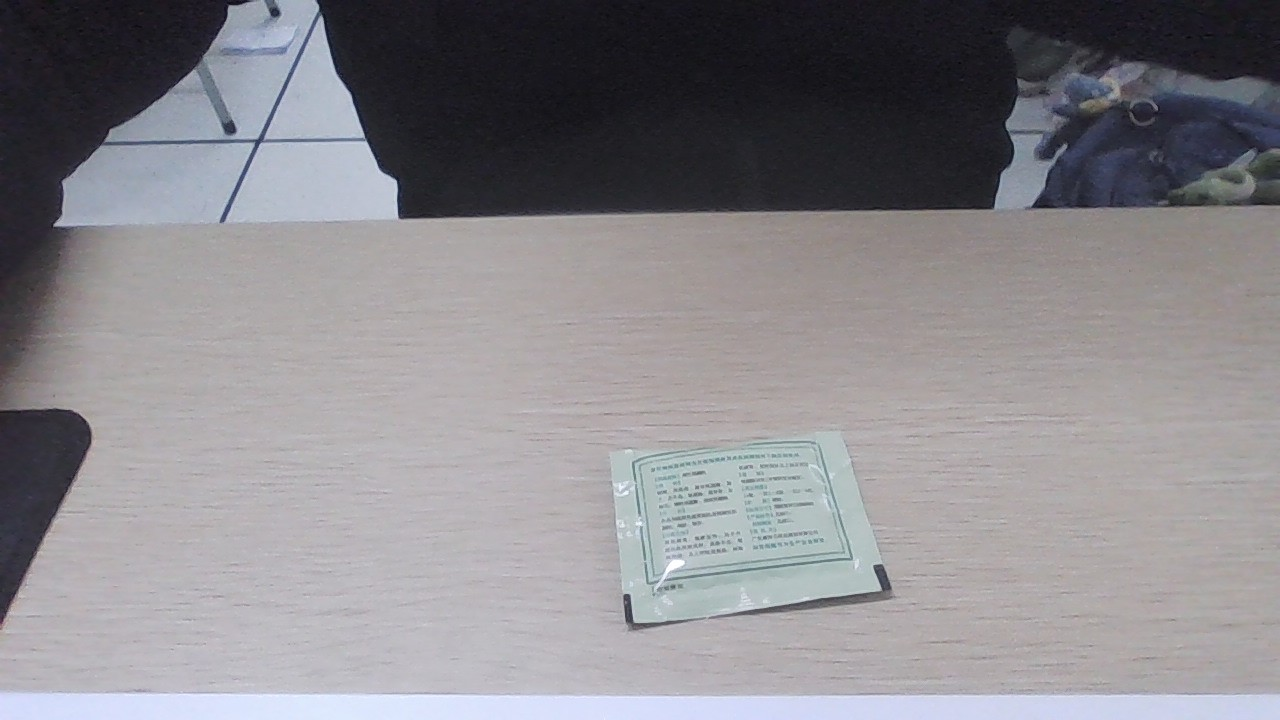YH-green medicine: (606, 446, 877, 606)
